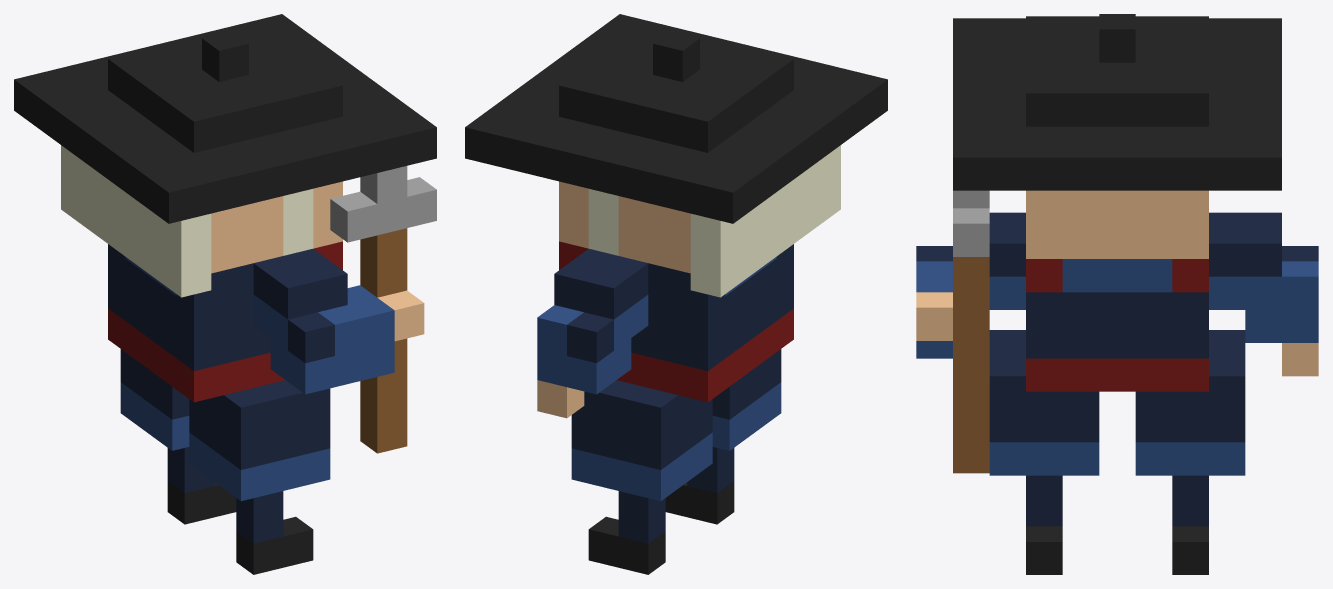
File: ashigaru_hold.obj
3 views of the same model, side by side, from view 1: azimuth 30°, elevation 25°; view 2: azimuth 150°, elevation 25°; view 3: azimuth 270°, elevation 25° (orthographic). The views are drawn at different scales.
Size of the model in its own units: 0.9 by 1.6 by 1.1.
1 material, 1 textured.
